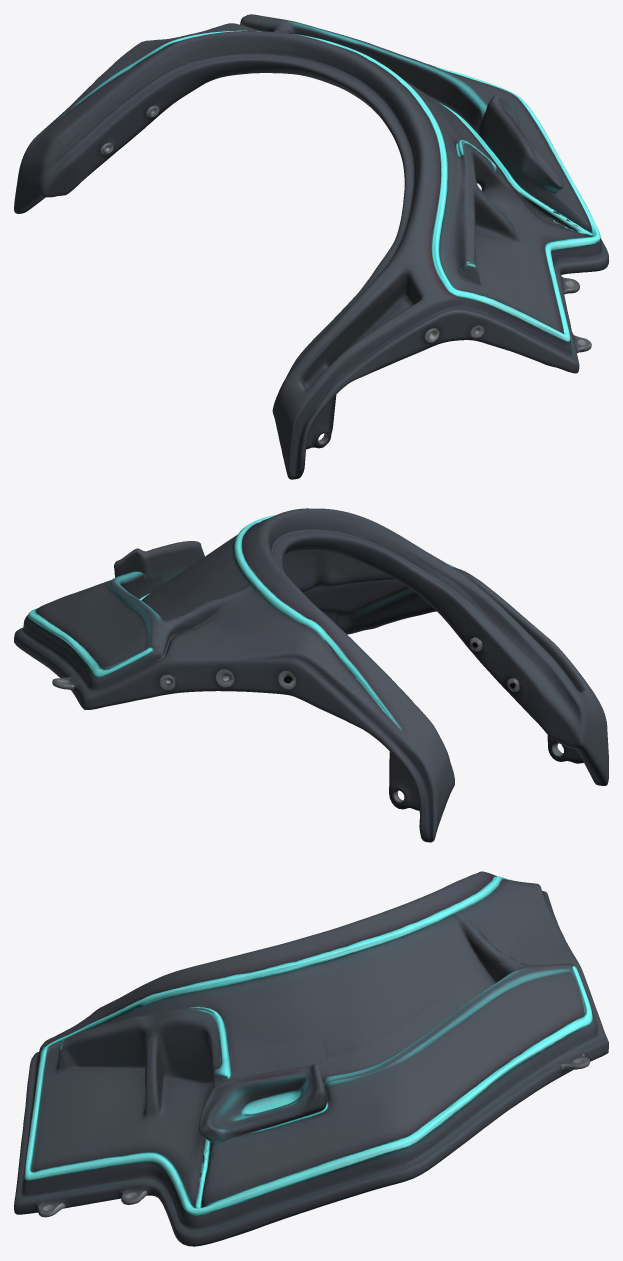
Rendered from tripo_convert_2ea7f7a9-8786-4cd1-ab20-c450dca64998.fbx.
The picture shows the model from 3 angles, top to bottom: view 1: azimuth 30°, elevation 25°; view 2: azimuth 150°, elevation 25°; view 3: azimuth 270°, elevation 25°; orthographic projection. The views are drawn at different scales.
Parts seen in each view (by area): view 1: tripo_node_2ea7f7a9; view 2: tripo_node_2ea7f7a9; view 3: tripo_node_2ea7f7a9.
Boxes of the visible parts, box(x1,y1,x2,y2) form: tripo_node_2ea7f7a9: box(14, 14, 608, 479); tripo_node_2ea7f7a9: box(14, 508, 608, 842); tripo_node_2ea7f7a9: box(14, 871, 608, 1246).
Size of the model in its own units: 0.9367 by 0.5818 by 0.977.
Materials: 1 (1 with a texture image).
